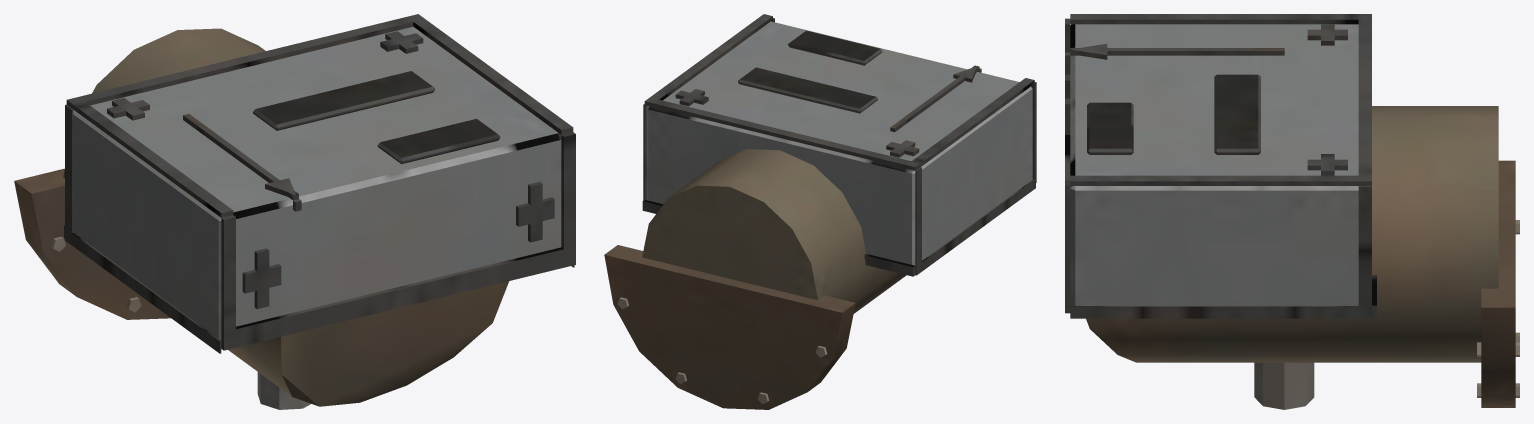
The model's file is overflow-valve-south.glb.
The picture shows the model from 3 angles, left to right: view 1: azimuth 30°, elevation 25°; view 2: azimuth 150°, elevation 25°; view 3: azimuth 270°, elevation 25°; orthographic projection. The views are drawn at different scales.
Visible parts, largest first — view 1: body; view 2: body; view 3: body.
Part boxes in pixels (x1=…): body: x1=14, y1=14, x2=575, y2=409; body: x1=604, y1=14, x2=1036, y2=409; body: x1=1065, y1=14, x2=1519, y2=409.
Size of the model in its own units: 0.932 by 0.776 by 1.06.
1 material, 1 textured.
